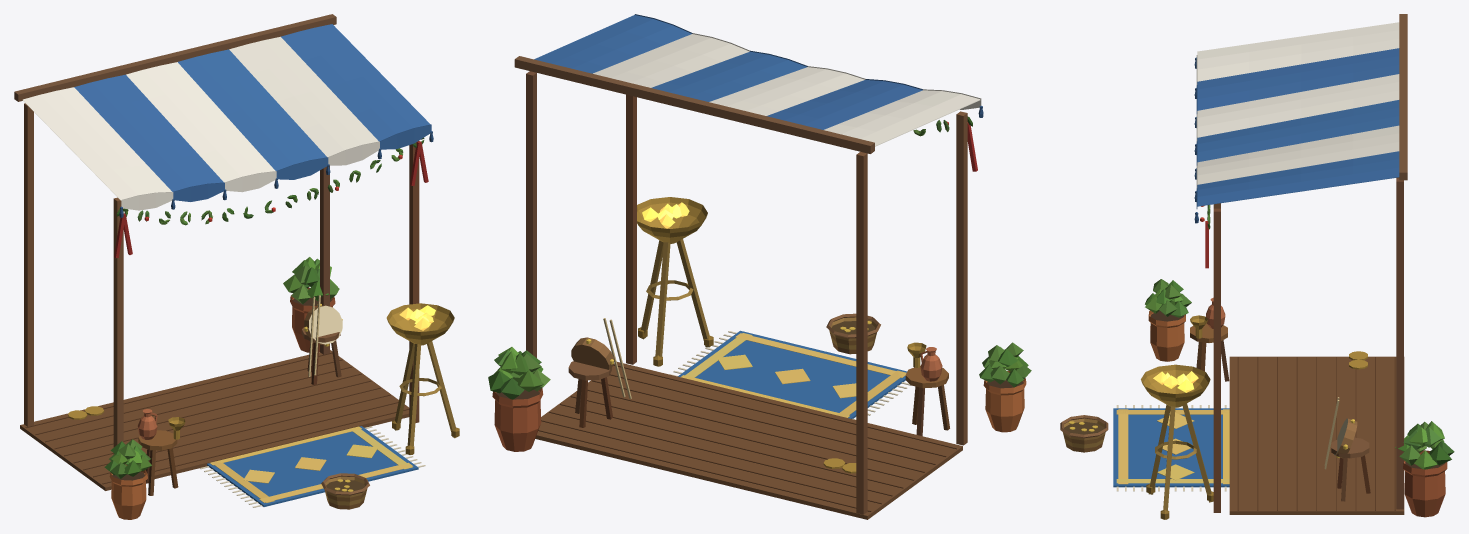
Rendered from mon_musicians.glb.
3 views of the same model, side by side, from view 1: azimuth 30°, elevation 25°; view 2: azimuth 150°, elevation 25°; view 3: azimuth 270°, elevation 25° (orthographic). The views are drawn at different scales.
Visible parts, largest first — view 1: House, Embers; view 2: House, Embers; view 3: House, Embers.
Boxes of the visible parts, box(x1,y1,x2,y2) form: House: box(14, 14, 459, 519); Embers: box(399, 305, 435, 330); House: box(488, 14, 1031, 519); Embers: box(642, 202, 689, 228); House: box(1060, 14, 1454, 519); Embers: box(1153, 371, 1198, 392).
Size of the model in its own units: 2.51 by 2.29 by 2.37.
Materials: 4 (4 with a texture image).
